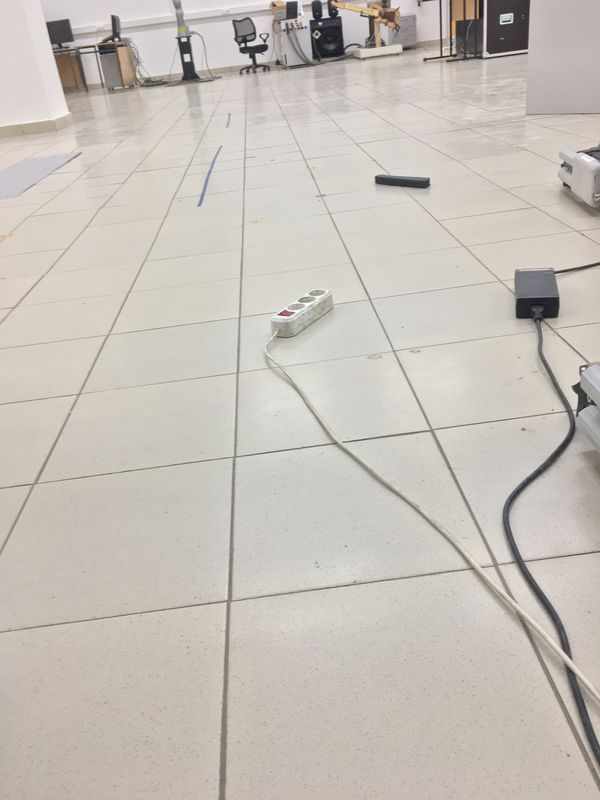socket: (267, 283, 336, 340)
